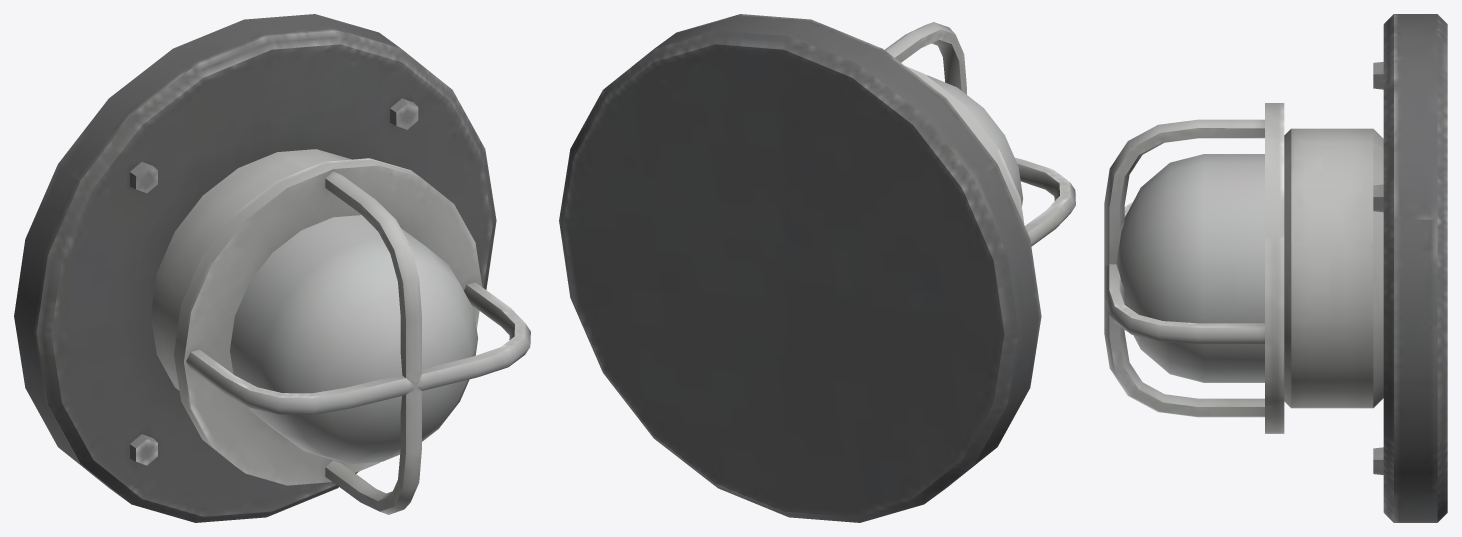
Rendered from navlight.glb.
3 views of the same model, side by side, from view 1: azimuth 30°, elevation 25°; view 2: azimuth 150°, elevation 25°; view 3: azimuth 270°, elevation 25° (orthographic). The views are drawn at different scales.
Parts seen in each view (by area): view 1: navlight; view 2: navlight; view 3: navlight.
Part boxes in pixels (left/top/right/bottom): navlight: left=14, top=14, right=530, bottom=522; navlight: left=559, top=14, right=1075, bottom=522; navlight: left=1104, top=14, right=1447, bottom=522.
Bounding box in the file's own units: 0.4 × 0.4 × 0.268.
Materials: 1 (1 with a texture image).
